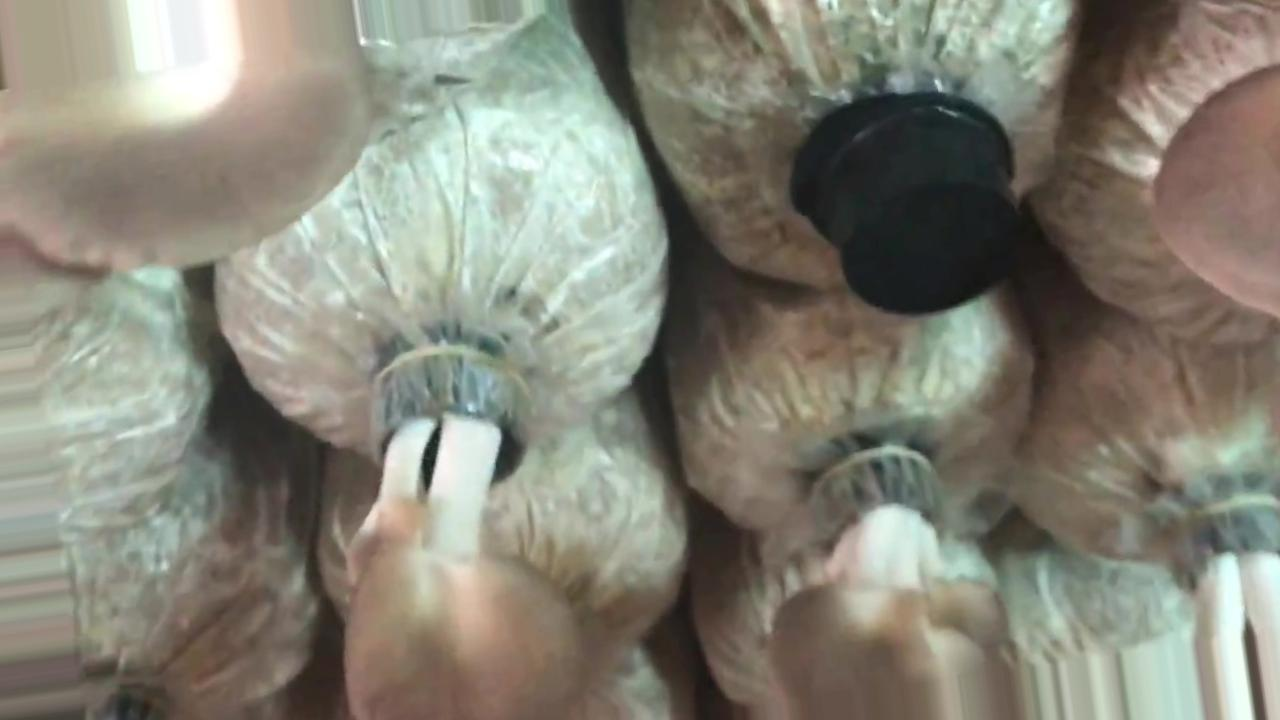nam: (1, 1, 374, 266), (345, 355, 578, 717), (774, 456, 1011, 720), (1158, 64, 1279, 317)
